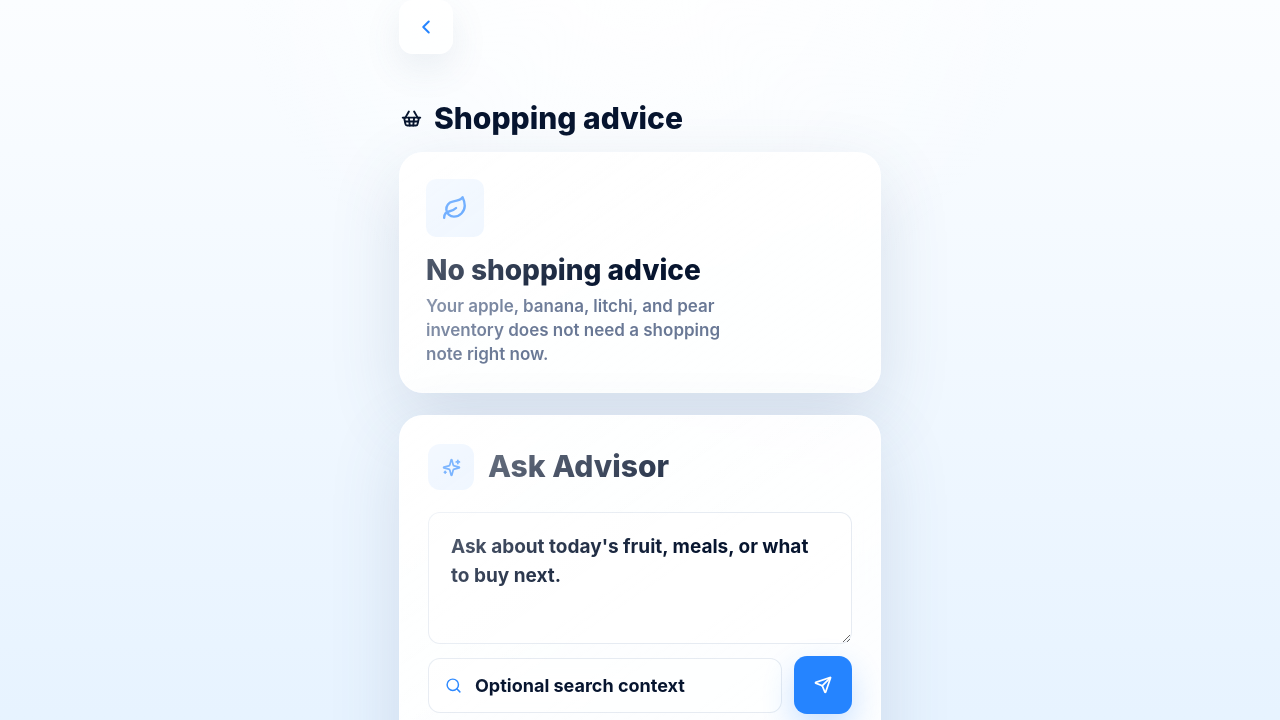
AdvicePage › shows LLM request errors without fabricating fallback advice
The width and height of the screenshot is (1280, 720).
Type "Help me plan" into the text box with placeholder "Ask about today's fruit, meals, or what to buy next." at (640, 578), box [428,512,852,644]
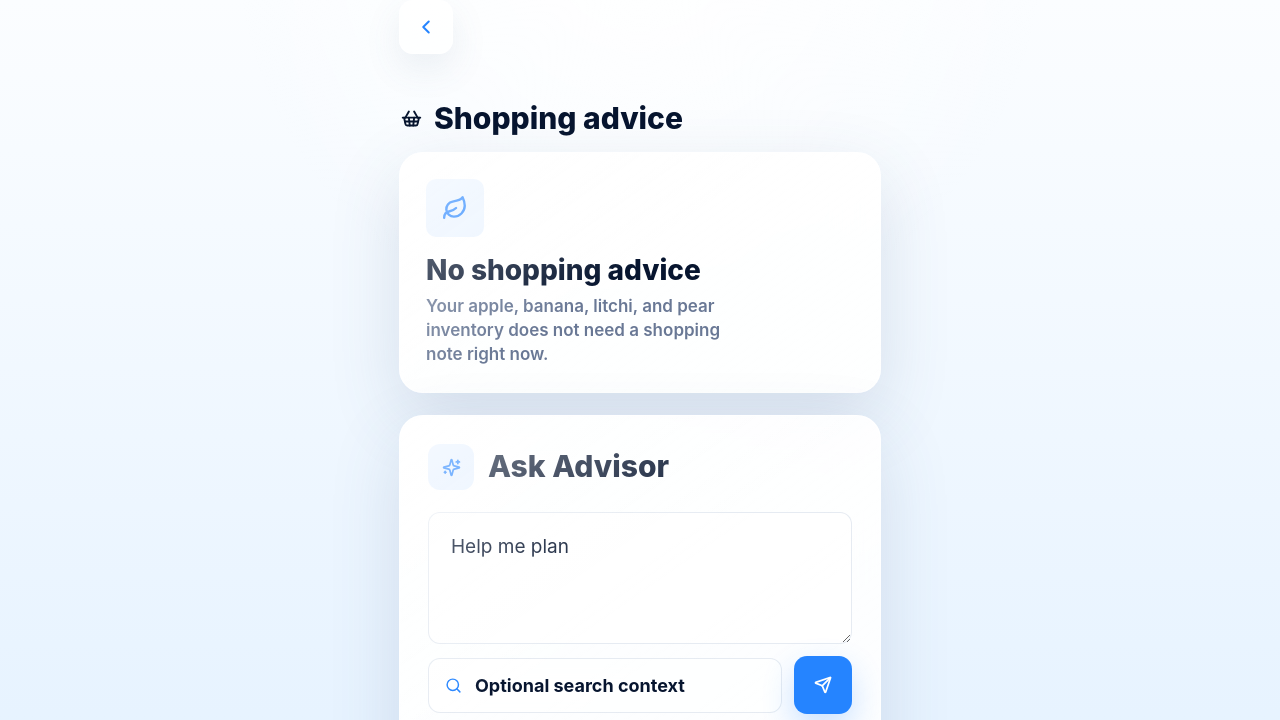
Click the button named "send advice request" at (823, 685), box [794,656,852,714]
(page scrolled)
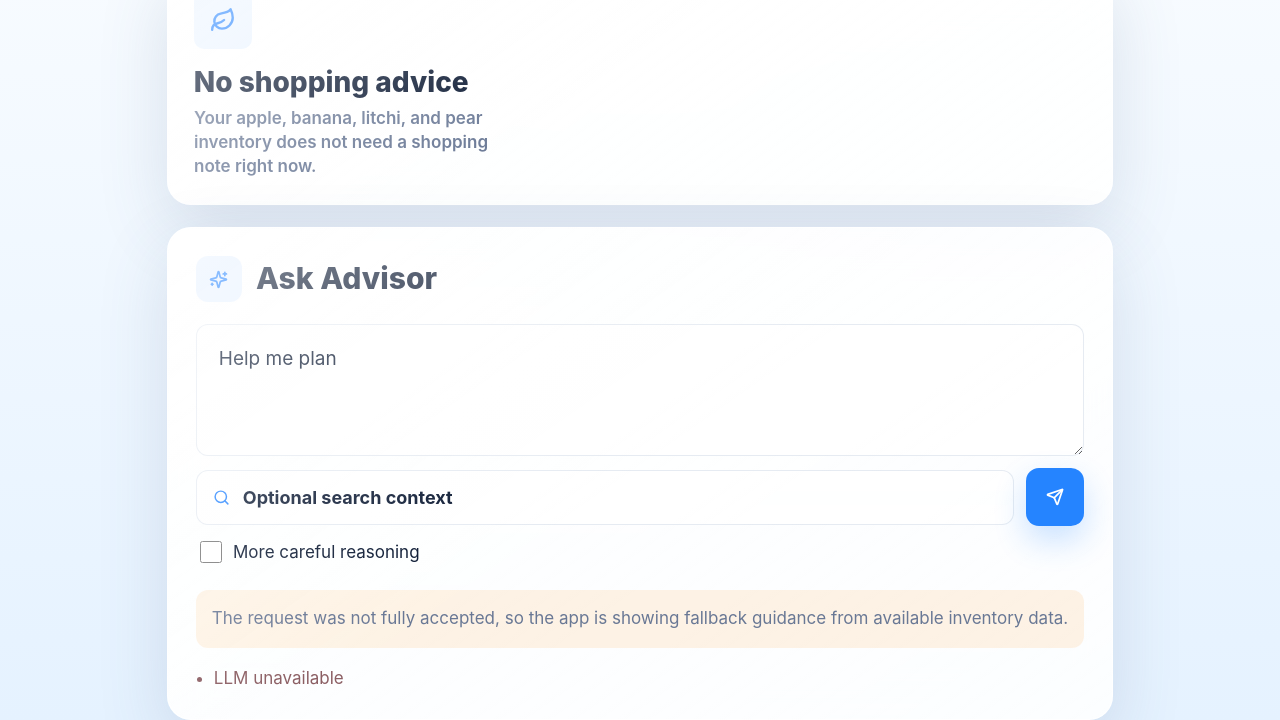
Now the list item "LLM unavailable" is shown, box [214,668,344,688]
